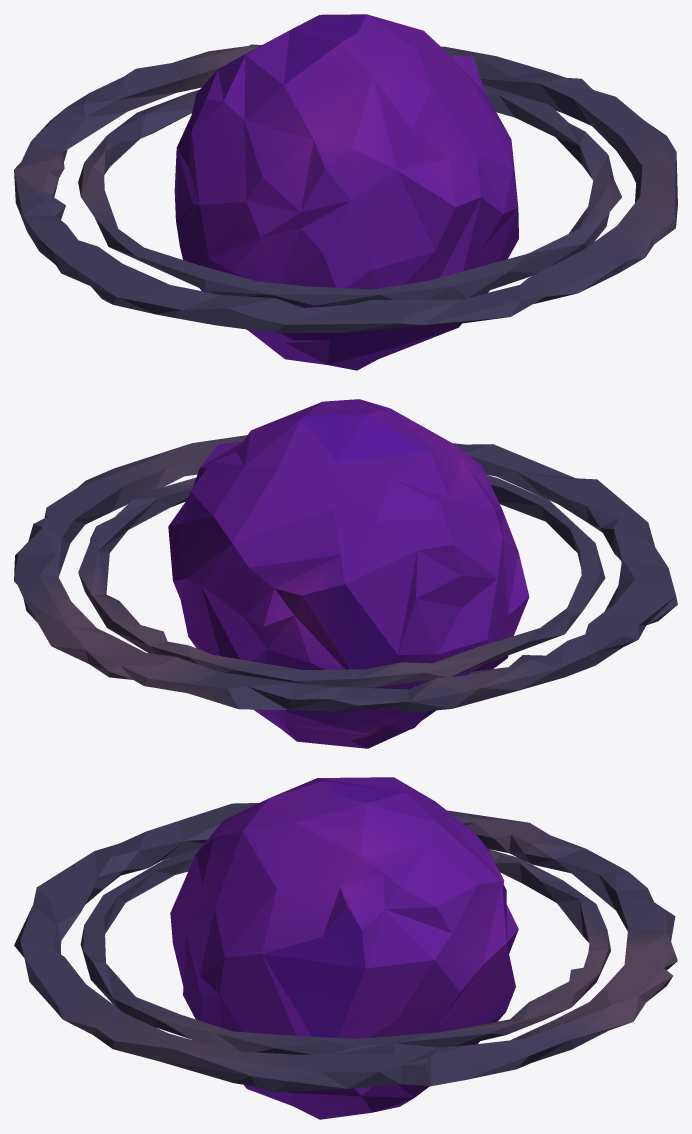
File: SM_Nature_Planet_03.fbx
3 views of the same model, one above another, from view 1: azimuth 30°, elevation 25°; view 2: azimuth 150°, elevation 25°; view 3: azimuth 270°, elevation 25° (orthographic). The views are drawn at different scales.
Visible parts, largest first — view 1: SM_Nature_Planet_03; view 2: SM_Nature_Planet_03; view 3: SM_Nature_Planet_03.
Boxes of the visible parts, <box> form: SM_Nature_Planet_03: <box>14,14,677,370</box>; SM_Nature_Planet_03: <box>14,399,677,748</box>; SM_Nature_Planet_03: <box>14,777,677,1119</box>.
Bounding box in the file's own units: 10.58 × 5.58 × 10.58.
